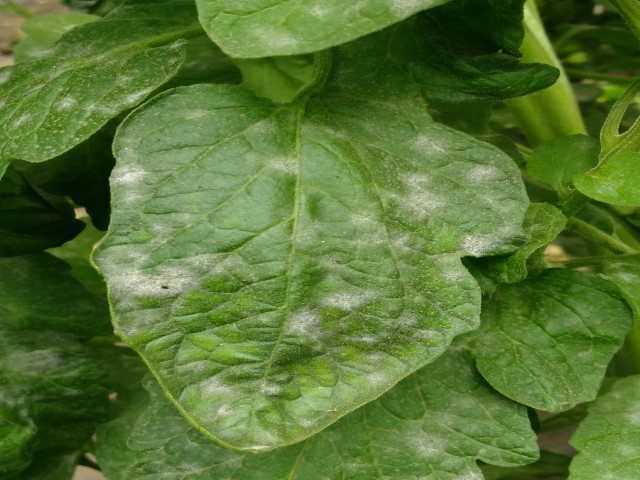oidio: (116, 252, 239, 303), (391, 173, 452, 230), (455, 151, 504, 189), (318, 285, 381, 314), (406, 128, 454, 165), (109, 161, 156, 188), (285, 308, 320, 341), (49, 93, 85, 114), (256, 379, 286, 401), (471, 230, 497, 253)
